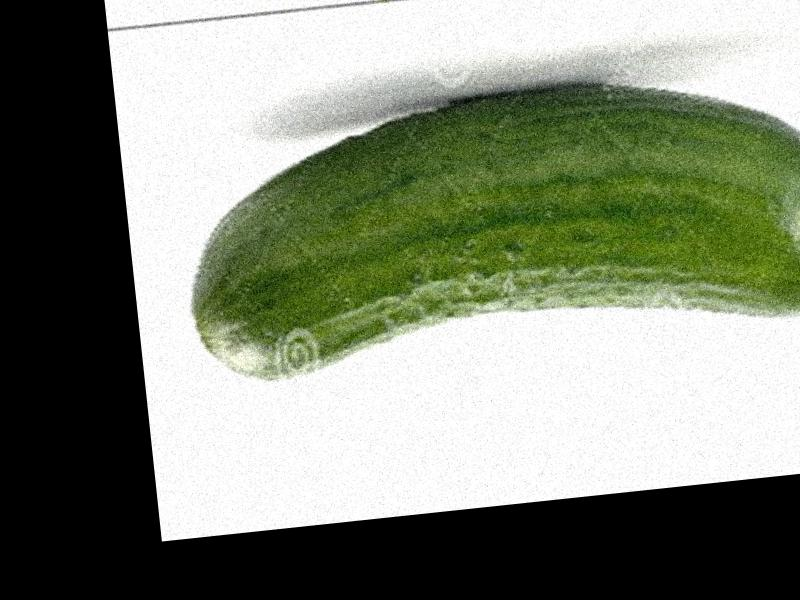Cucumber: (174, 55, 800, 380)
